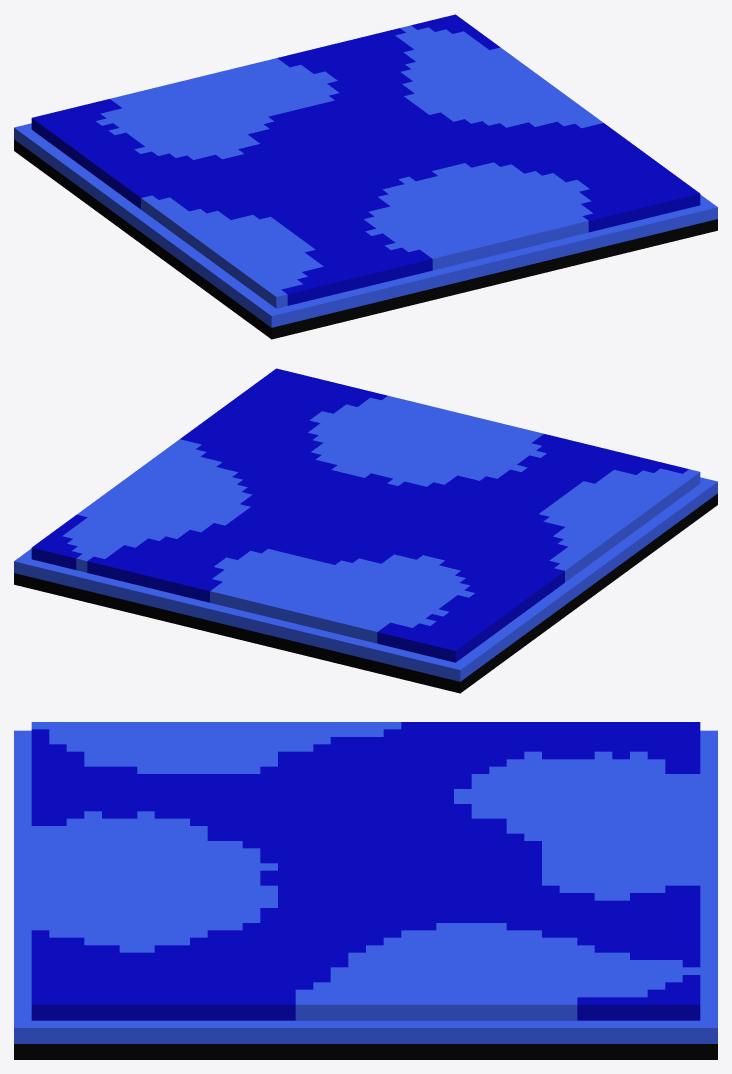
Rendered from BoardPieceOne.fbx.
The picture shows the model from 3 angles, top to bottom: view 1: azimuth 30°, elevation 25°; view 2: azimuth 150°, elevation 25°; view 3: azimuth 270°, elevation 25°; orthographic projection. The views are drawn at different scales.
Parts seen in each view (by area): view 1: boardGround1; view 2: boardGround1; view 3: boardGround1.
Boxes of the visible parts, x1,y1,x2,y2 form: boardGround1: (14, 14, 717, 339); boardGround1: (14, 368, 717, 693); boardGround1: (14, 722, 717, 1059).
Bounding box in the file's own units: 400 × 30 × 400.
